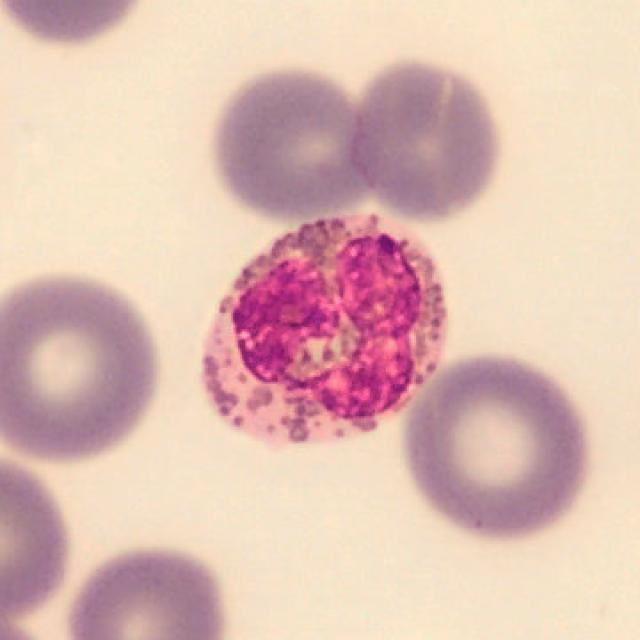Eosinofilo: (201, 213, 448, 452)
